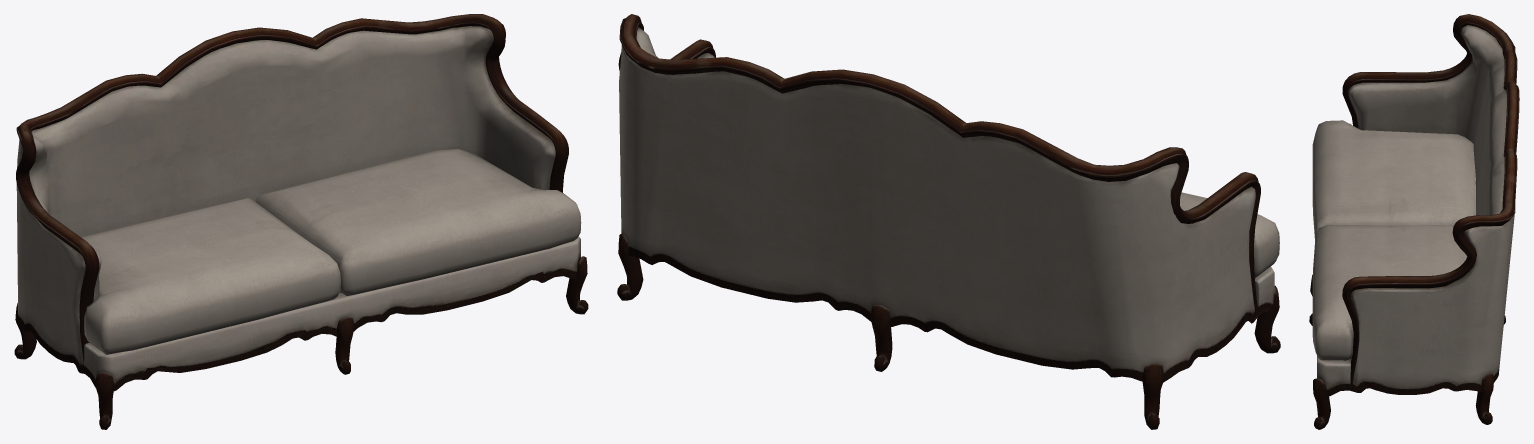
File: Sofa_01.glb
3 views of the same model, side by side, from view 1: azimuth 30°, elevation 25°; view 2: azimuth 150°, elevation 25°; view 3: azimuth 270°, elevation 25° (orthographic). The views are drawn at different scales.
Visible parts, largest first — view 1: Sofa_01; view 2: Sofa_01; view 3: Sofa_01.
Part boxes in pixels (x1=…): Sofa_01: x1=14, y1=14, x2=588, y2=429; Sofa_01: x1=617, y1=14, x2=1280, y2=429; Sofa_01: x1=1309, y1=14, x2=1519, y2=429.
Bounding box in the file's own units: 1.57 × 0.7966 × 0.658.
1 material, 1 textured.
